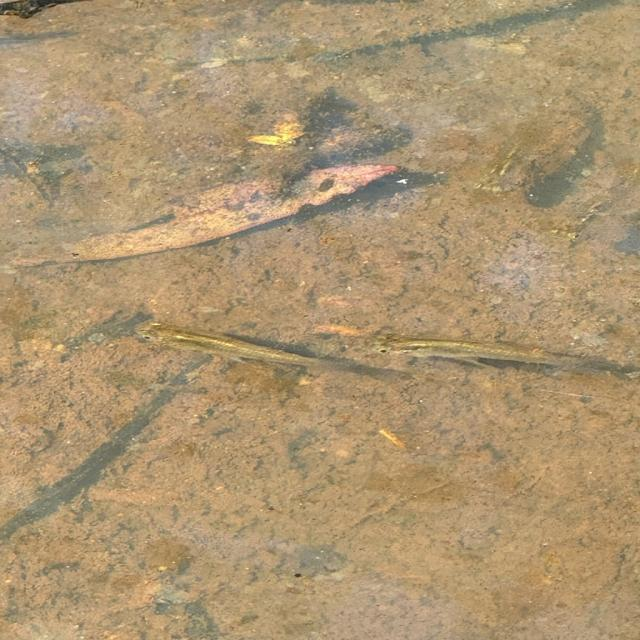Sivrisinek Baligi: (371, 332, 628, 384), (139, 318, 358, 379)
